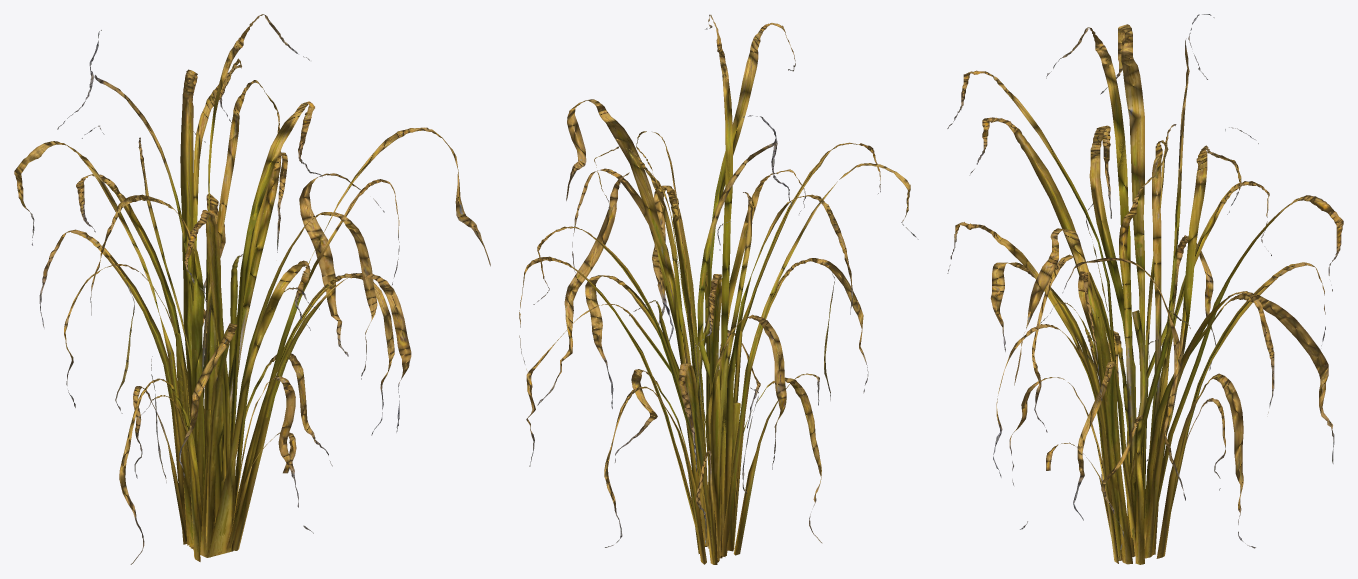
Rendered from sui_wither_003.glb.
3 renders of one model, left to right at view 1: azimuth 30°, elevation 25°; view 2: azimuth 150°, elevation 25°; view 3: azimuth 270°, elevation 25°, orthographic. The views are drawn at different scales.
Visible parts, largest first — view 1: tripo_node_8c85059c-54b3-45e1-b6c4-4385583dd868; view 2: tripo_node_8c85059c-54b3-45e1-b6c4-4385583dd868; view 3: tripo_node_8c85059c-54b3-45e1-b6c4-4385583dd868.
Boxes of the visible parts, x1,y1,x2,y2 form: tripo_node_8c85059c-54b3-45e1-b6c4-4385583dd868: [14, 14, 490, 564]; tripo_node_8c85059c-54b3-45e1-b6c4-4385583dd868: [519, 14, 918, 564]; tripo_node_8c85059c-54b3-45e1-b6c4-4385583dd868: [947, 14, 1343, 564].
Size of the model in its own units: 0.4002 by 0.5 by 0.3297.
1 material, 1 textured.
